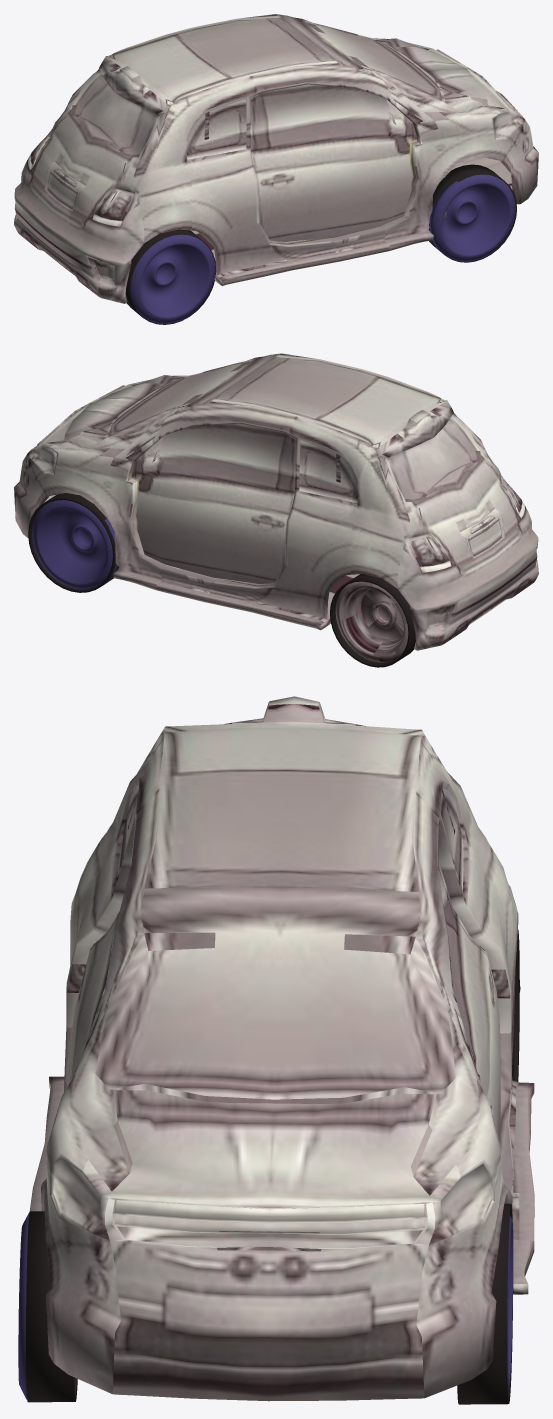
File: fiat500.obj
3 views of the same model, one above another, from view 1: azimuth 30°, elevation 25°; view 2: azimuth 150°, elevation 25°; view 3: azimuth 270°, elevation 25° (orthographic). The views are drawn at different scales.
Visible parts, largest first — view 1: Cube, Cylinder, Cylinder.001, Cylinder.006, Cylinder.005; view 2: Cube, Cylinder.002, Cylinder.003, Cylinder.004, Cylinder.007; view 3: Cube, Cylinder.006, Cylinder.007, Cylinder.001, Cylinder.002, Cylinder.004.
Boxes of the visible parts, <box> form: Cube: <box>14,14,538,303</box>; Cylinder: <box>130,234,215,324</box>; Cylinder.001: <box>429,174,515,262</box>; Cylinder.006: <box>428,164,516,262</box>; Cylinder.005: <box>125,229,215,324</box>; Cube: <box>14,353,538,650</box>; Cylinder.002: <box>32,500,118,589</box>; Cylinder.003: <box>335,581,408,662</box>; Cylinder.004: <box>330,574,415,667</box>; Cylinder.007: <box>28,493,118,592</box>; Cube: <box>29,696,534,1401</box>; Cylinder.006: <box>26,1211,77,1402</box>; Cylinder.007: <box>457,1203,513,1404</box>; Cylinder.001: <box>18,1212,29,1399</box>; Cylinder.002: <box>507,1215,513,1390</box>; Cylinder.004: <box>480,929,519,1081</box>.
Bounding box in the file's own units: 11.07 × 4.88 × 5.38.
Materials: 10 (7 with a texture image).
